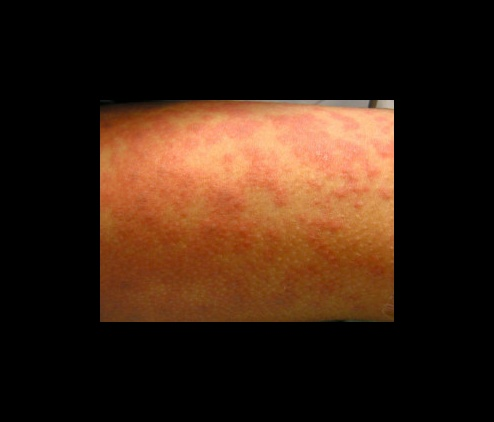SJS-TEN: (99, 99, 395, 323)
